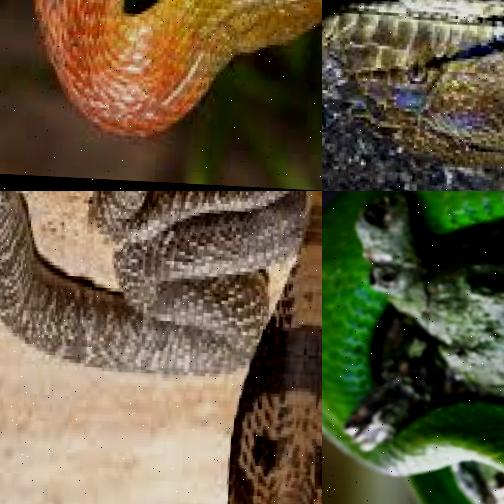snake: (0, 191, 322, 504), (0, 0, 322, 191), (322, 191, 504, 504), (322, 0, 504, 191)
